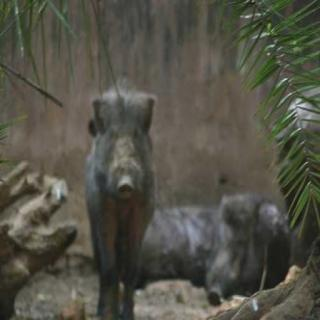Pig: (79, 78, 177, 306)
